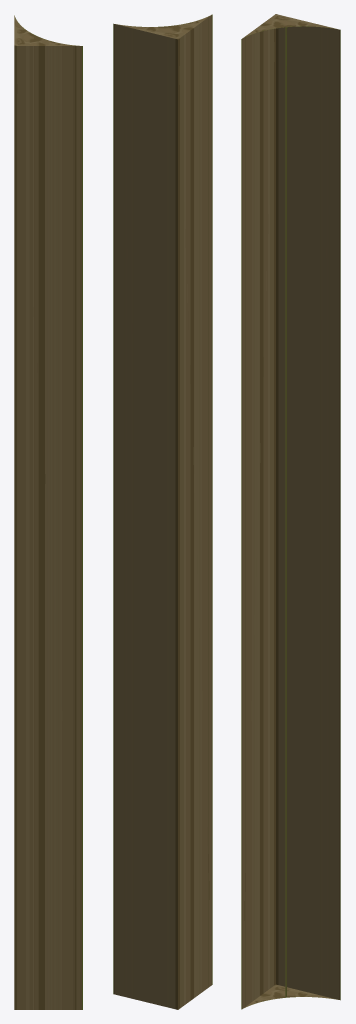
Rendered from coininterieur.fbx.
3 renders of one model, left to right at view 1: azimuth 90°, elevation 25°; view 2: azimuth 150°, elevation 25°; view 3: azimuth 330°, elevation 25°, orthographic.
Parts seen in each view (by area): view 1: CoinInterieu; view 2: CoinInterieu; view 3: CoinInterieu.
Part boxes in pixels (x1=…): CoinInterieu: x1=14, y1=15, x2=82, y2=1009; CoinInterieu: x1=113, y1=14, x2=212, y2=1009; CoinInterieu: x1=241, y1=14, x2=340, y2=1009.
Size of the model in its own units: 91.52 by 1284 by 83.43.
